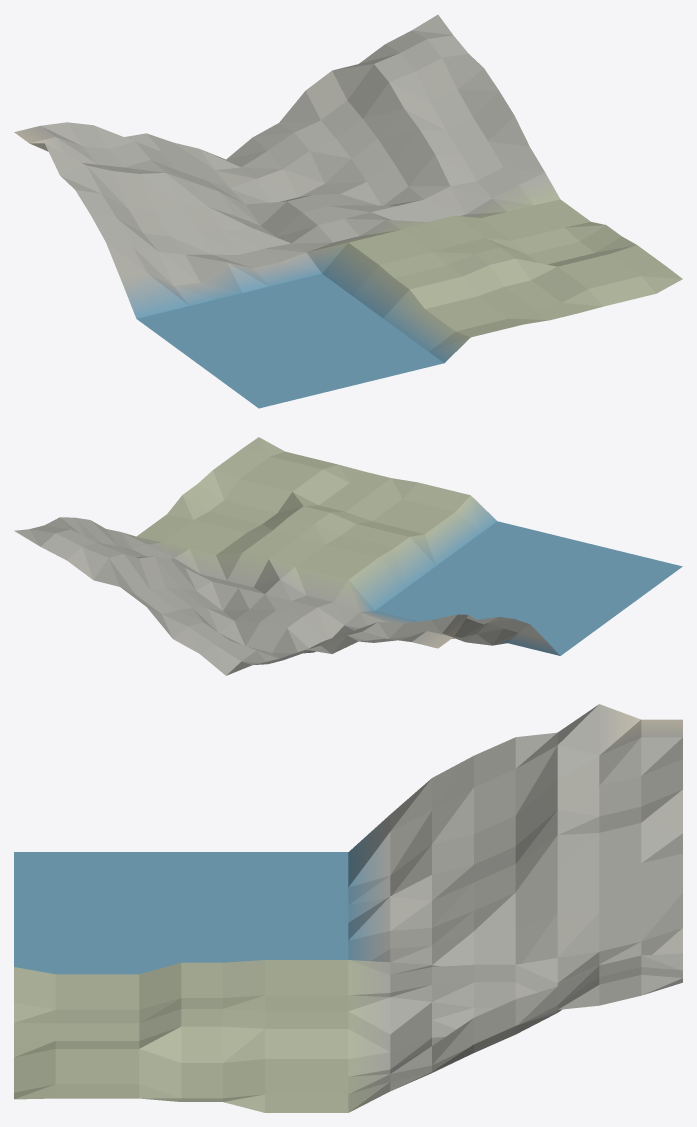
3 views of the same model, one above another, from view 1: azimuth 30°, elevation 25°; view 2: azimuth 150°, elevation 25°; view 3: azimuth 270°, elevation 25° (orthographic). The views are drawn at different scales.
Bounding box in the file's own units: 32 × 8.03 × 32.
